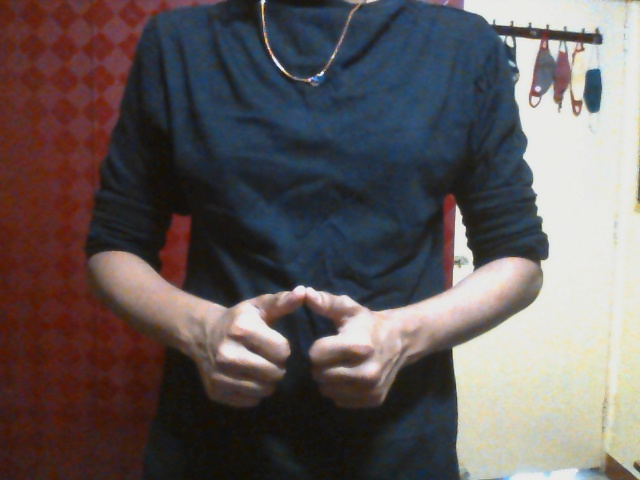A: (201, 283, 395, 411)
